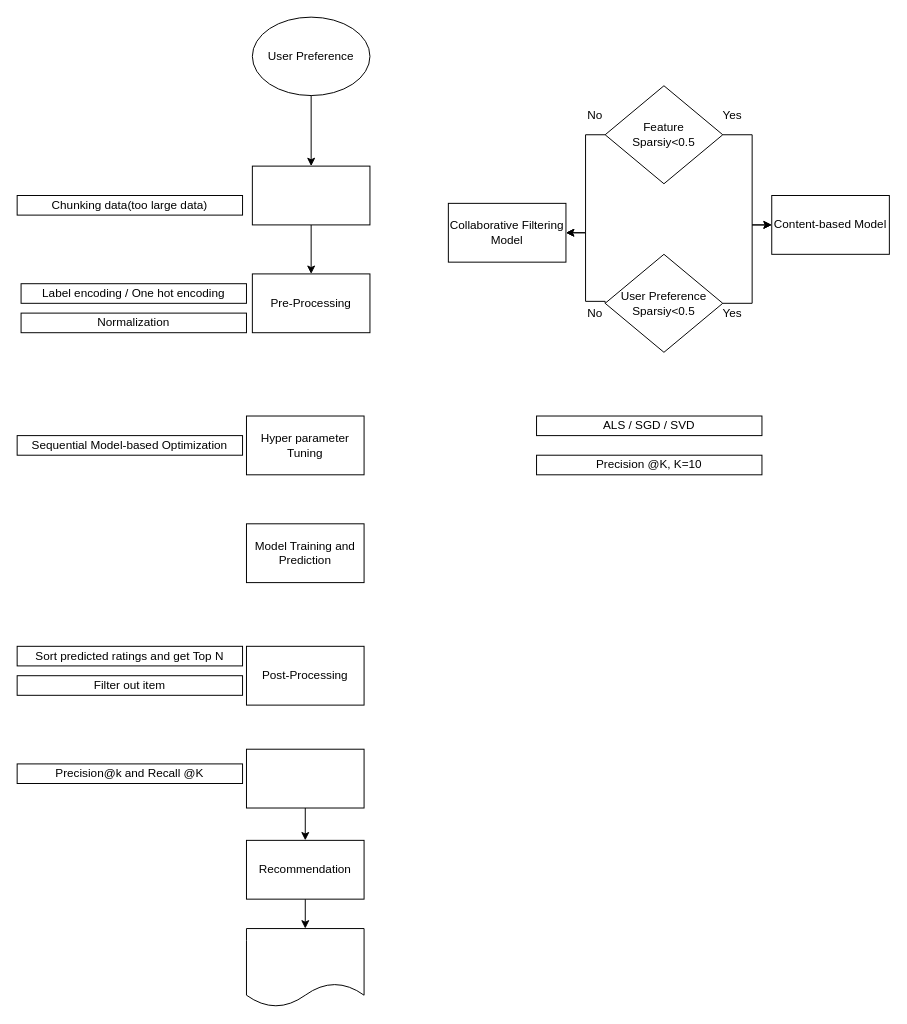
This 907x1024 diagram has some shape labels left out. The shapes that lost their labels are listed below. From the top down, each one's centre as x and y in pixels, then its label:
(x=310, y=195): Raw Data
(x=304, y=778): Evaluation
(x=304, y=967): User Interface
